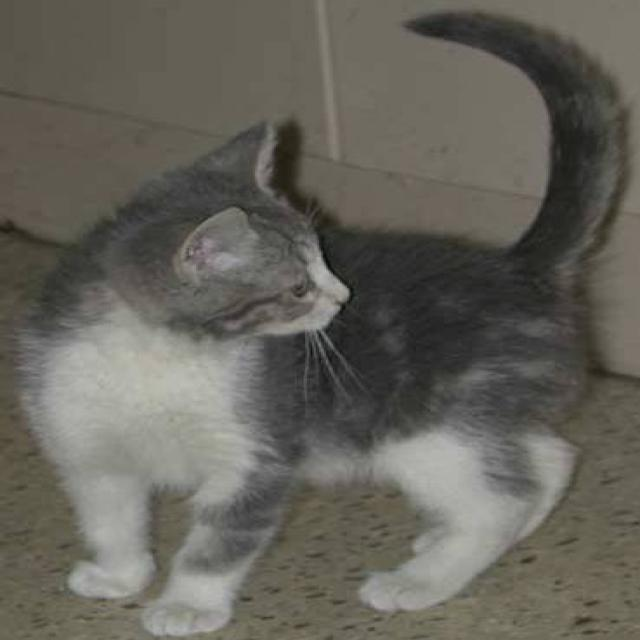Cat: (95, 123, 374, 371)
